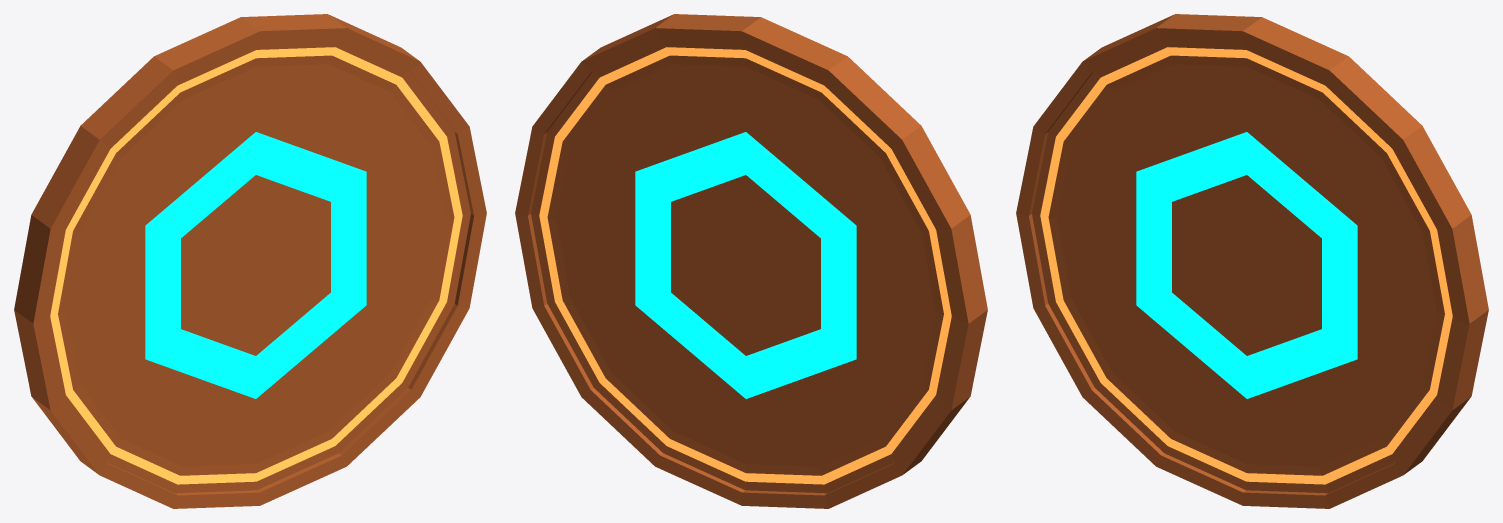
Rendered from coin_copper.glb.
3 renders of one model, left to right at view 1: azimuth 30°, elevation 25°; view 2: azimuth 150°, elevation 25°; view 3: azimuth 330°, elevation 25°, orthographic.
Parts seen in each view (by area): view 1: Coin; view 2: Coin; view 3: Coin.
Boxes of the visible parts, x1,y1,x2,y2 form: Coin: (14, 14, 486, 508); Coin: (515, 14, 987, 508); Coin: (1016, 14, 1488, 508).
Bounding box in the file's own units: 2.12 × 2.12 × 0.1558.
